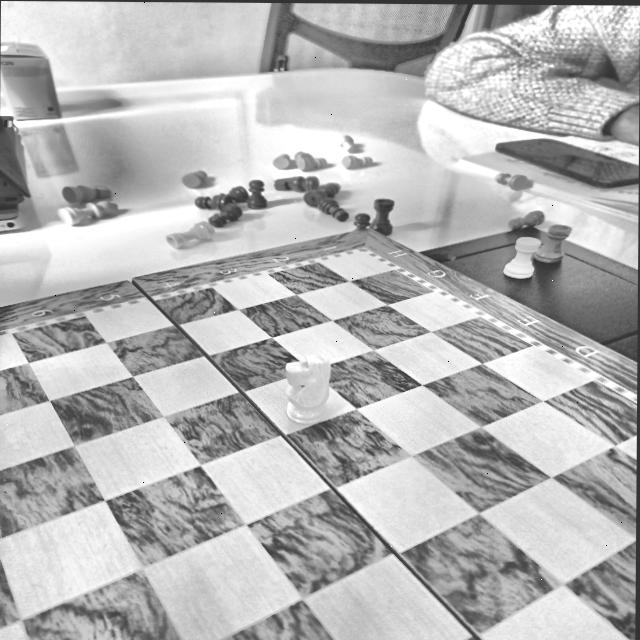white-knight: (270, 350, 359, 440)
